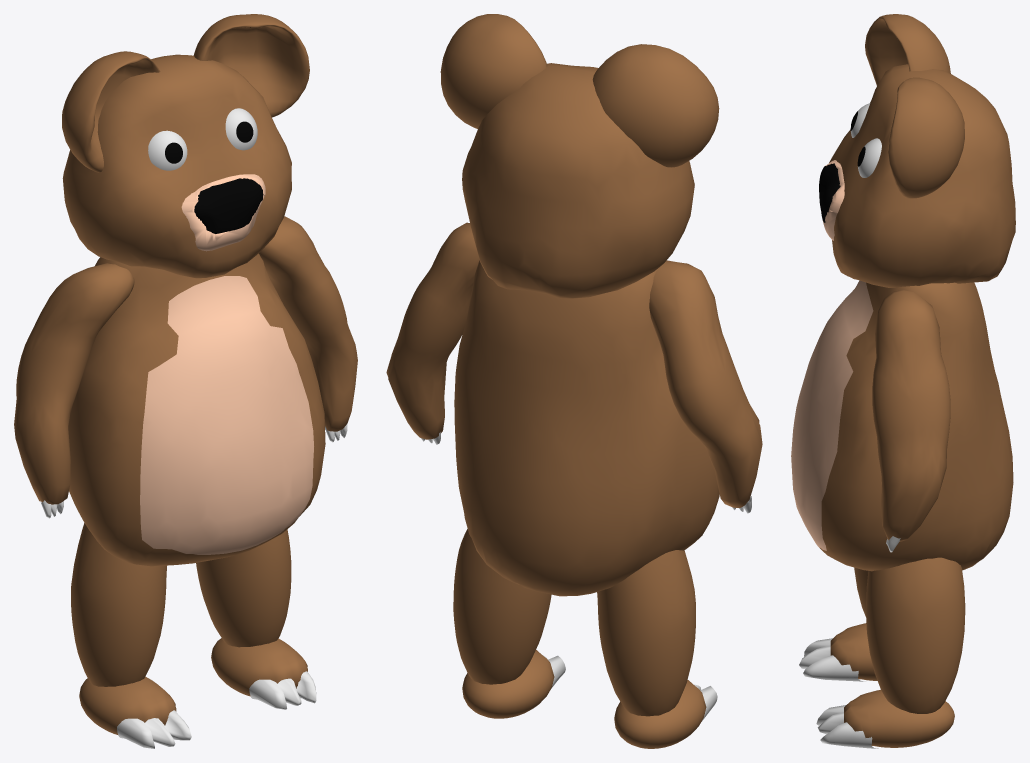
File: toyEnemy.fbx
The picture shows the model from 3 angles, left to right: view 1: azimuth 30°, elevation 25°; view 2: azimuth 150°, elevation 25°; view 3: azimuth 270°, elevation 25°; orthographic projection. The views are drawn at different scales.
Visible parts, largest first — view 1: Body, Head, Arm.002, Leg, Arm.001, Leg.001, Ear.001, Ear, Foot.001, Foot, Nose.001, Nose (+4 smaller); view 2: Body, Head, Arm.002, Leg, Ear, Arm.001, Leg.001, Ear.001, Foot.001, Foot; view 3: Body, Head, Arm.001, Leg.001, Ear.001, Foot.001, Ear, Foot, FootClaws, FootClaws.001, Nose.001, Nose (+2 smaller).
Part boxes in pixels (x1=…): Body: x1=68, y1=253, x2=325, y2=566; Head: x1=62, y1=54, x2=291, y2=278; Arm.002: x1=14, y1=263, x2=134, y2=504; Leg: x1=71, y1=523, x2=166, y2=686; Arm.001: x1=259, y1=216, x2=357, y2=431; Leg.001: x1=196, y1=529, x2=291, y2=647; Ear.001: x1=193, y1=14, x2=309, y2=117; Ear: x1=62, y1=51, x2=160, y2=172; Foot.001: x1=211, y1=638, x2=307, y2=696; Foot: x1=79, y1=676, x2=176, y2=734; Nose.001: x1=194, y1=178, x2=263, y2=233; Nose: x1=181, y1=174, x2=265, y2=251; Body: x1=454, y1=260, x2=719, y2=596; Head: x1=462, y1=63, x2=694, y2=298; Arm.002: x1=649, y1=260, x2=762, y2=507; Leg: x1=597, y1=550, x2=695, y2=716; Ear: x1=592, y1=44, x2=719, y2=167; Arm.001: x1=386, y1=222, x2=479, y2=439; Leg.001: x1=453, y1=529, x2=551, y2=684; Ear.001: x1=440, y1=14, x2=547, y2=128; Foot.001: x1=462, y1=650, x2=554, y2=718; Foot: x1=614, y1=680, x2=706, y2=748; Body: x1=791, y1=280, x2=1013, y2=571; Head: x1=829, y1=64, x2=1015, y2=287; Arm.001: x1=872, y1=290, x2=950, y2=541; Leg.001: x1=866, y1=557, x2=965, y2=713; Ear.001: x1=888, y1=77, x2=964, y2=198; Foot.001: x1=844, y1=689, x2=954, y2=747; Ear: x1=865, y1=14, x2=950, y2=85; Foot: x1=830, y1=623, x2=877, y2=680; FootClaws: x1=799, y1=638, x2=865, y2=681; FootClaws.001: x1=816, y1=705, x2=878, y2=748; Nose.001: x1=819, y1=163, x2=840, y2=222; Nose: x1=821, y1=160, x2=844, y2=240.
Bounding box in the file's own units: 163 × 305 × 94.51.
